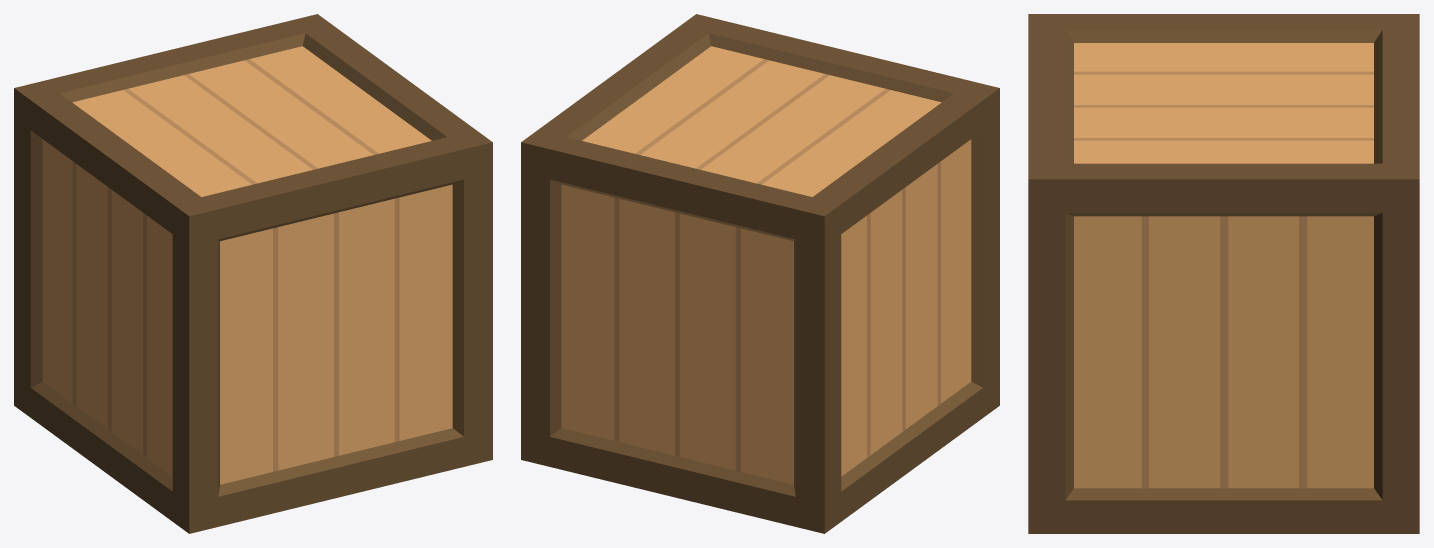
Rendered from SupplyCrate.fbx.
3 renders of one model, left to right at view 1: azimuth 30°, elevation 25°; view 2: azimuth 150°, elevation 25°; view 3: azimuth 270°, elevation 25°, orthographic. The views are drawn at different scales.
Parts seen in each view (by area): view 1: Cube; view 2: Cube; view 3: Cube.
Part boxes in pixels (x1,y1,x2,y2): Cube: (14,14,492,533); Cube: (521,14,999,533); Cube: (1028,14,1419,533).
Bounding box in the file's own units: 200 × 200 × 200.
